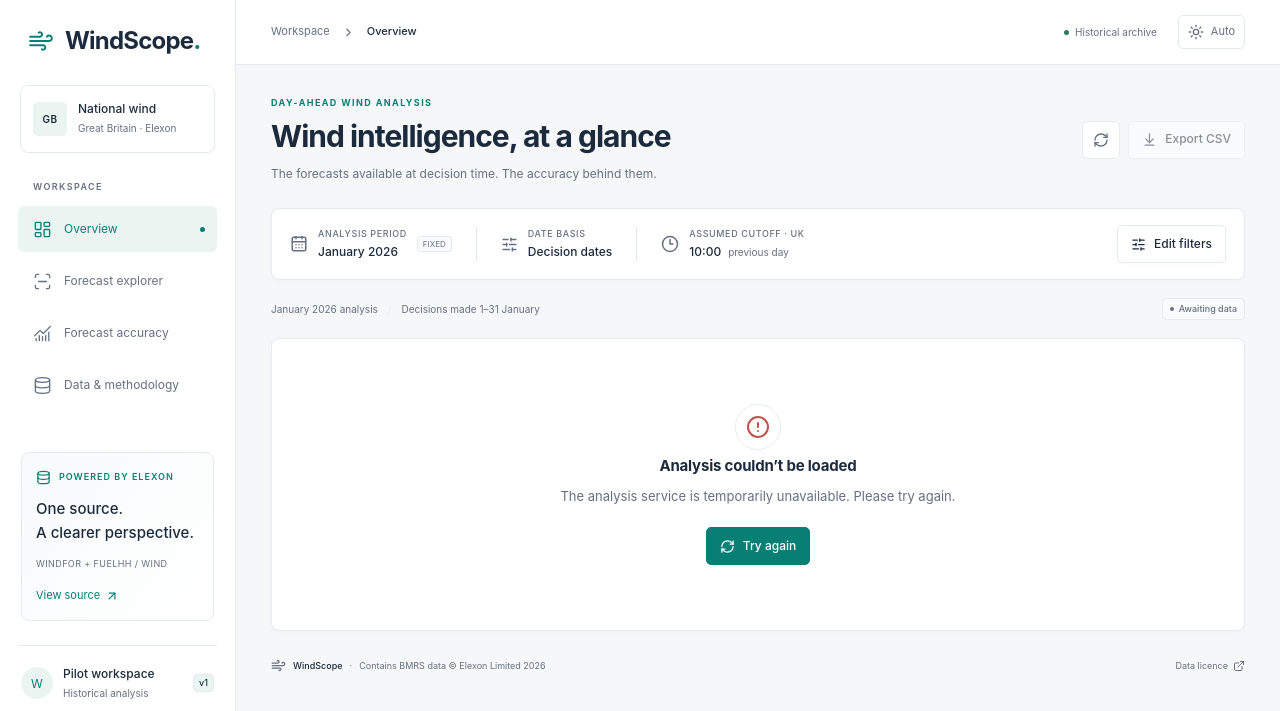
Test: dashboard data states › shows an API error and lets the user retry
The image size is (1280, 711).
Check: the message that starts with "Analysis couldn’t be loaded" is shown, box [660,456,857,476]
Check: the text "15" is not shown
Click the button "Try again" at coordinates (758, 546), box [706,527,810,565]
(page scrolled)
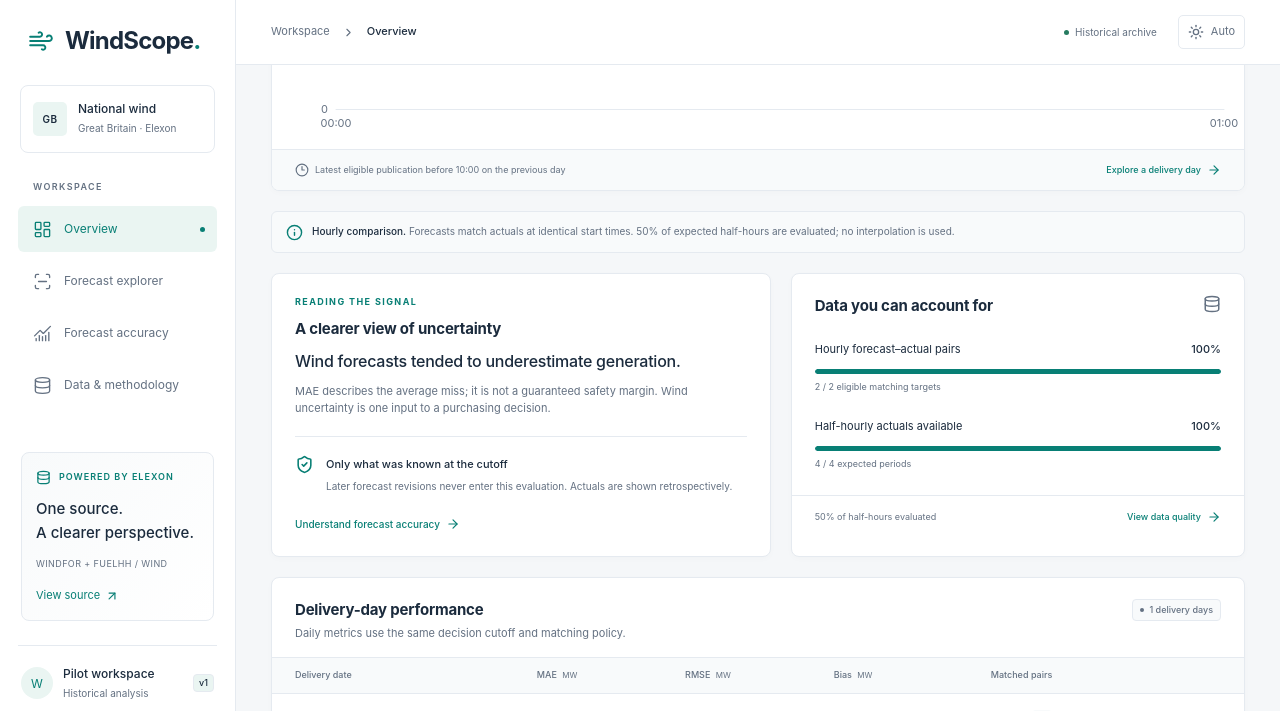
Check: the text "Wind forecasts tended to underestimate generation." is shown, box [295,351,680,371]
